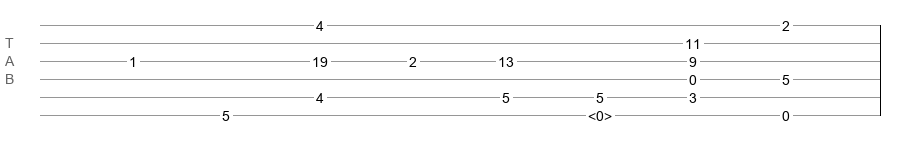0: (689, 72, 697, 82), (782, 108, 790, 118)
1: (129, 54, 137, 64)
11: (685, 36, 701, 46)
13: (498, 54, 514, 64)
19: (312, 54, 328, 64)
2: (409, 54, 417, 64), (782, 18, 790, 28)
3: (689, 90, 697, 100)
4: (316, 18, 324, 28), (316, 90, 324, 100)
5: (222, 108, 230, 118), (502, 90, 510, 100), (596, 90, 604, 100), (782, 72, 790, 82)
9: (689, 54, 697, 64)
harmonic: (588, 108, 612, 118)
